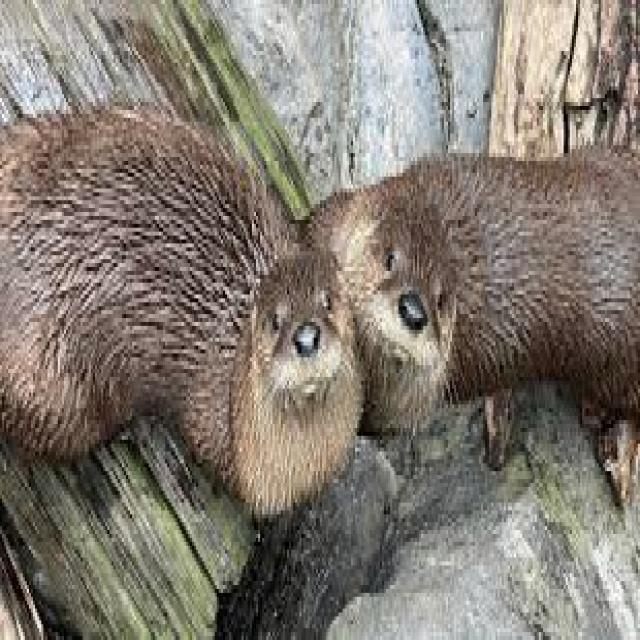otter: (0, 106, 359, 514), (293, 145, 638, 463)
